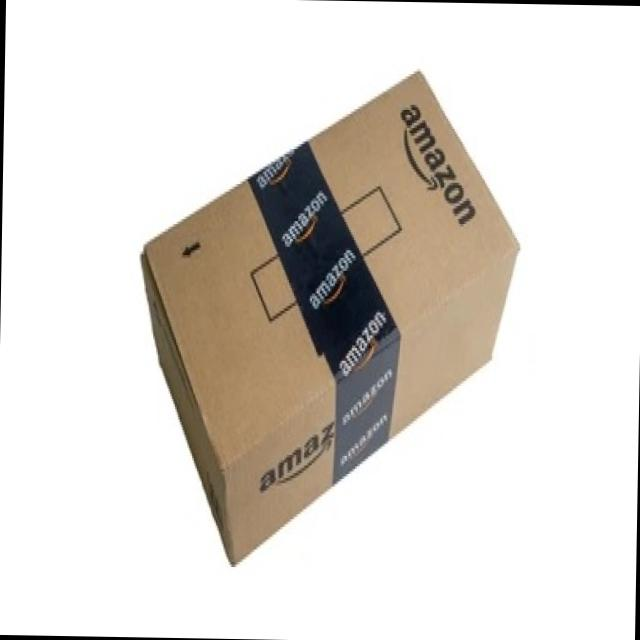box: (141, 67, 520, 566)
